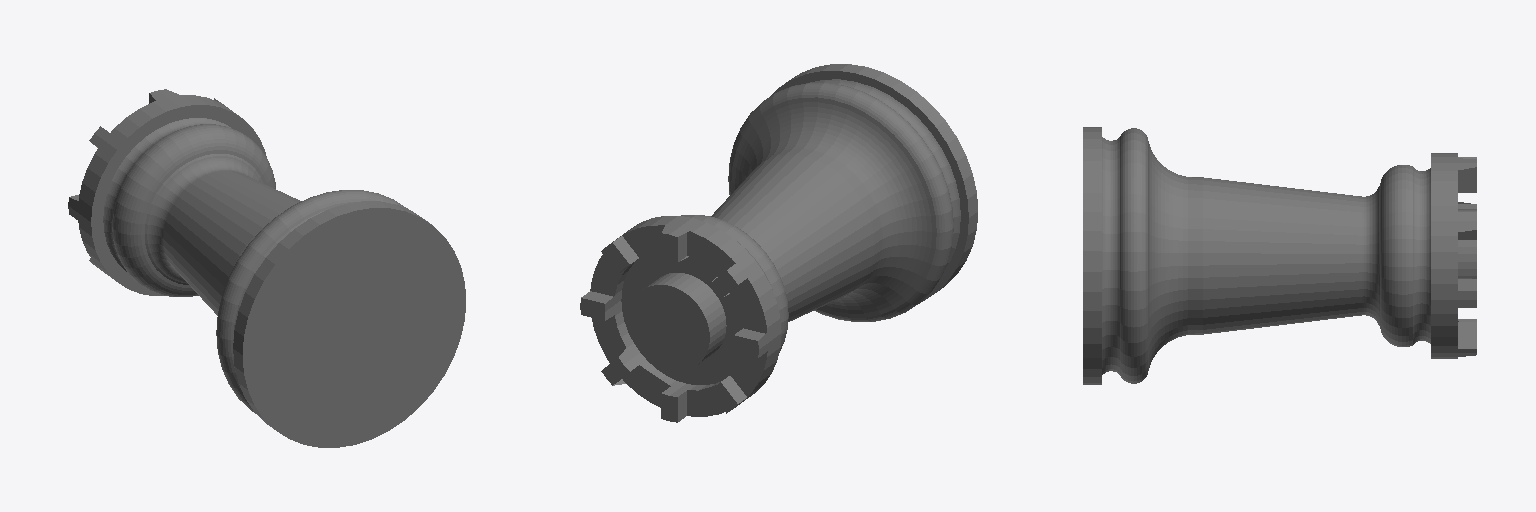
The model's file is torre.obj.
3 renders of one model, left to right at view 1: azimuth 30°, elevation 25°; view 2: azimuth 150°, elevation 25°; view 3: azimuth 270°, elevation 25°, orthographic.
Parts seen in each view (by area): view 1: torre_Mesh3_Group5_Group4_Group3_Model; view 2: torre_Mesh3_Group5_Group4_Group3_Model; view 3: torre_Mesh3_Group5_Group4_Group3_Model.
Boxes of the visible parts, <box> form: torre_Mesh3_Group5_Group4_Group3_Model: <box>68,89,465,447</box>; torre_Mesh3_Group5_Group4_Group3_Model: <box>580,64,977,422</box>; torre_Mesh3_Group5_Group4_Group3_Model: <box>1083,127,1476,384</box>.
Bounding box in the file's own units: 0.2744 × 0.2744 × 0.418.